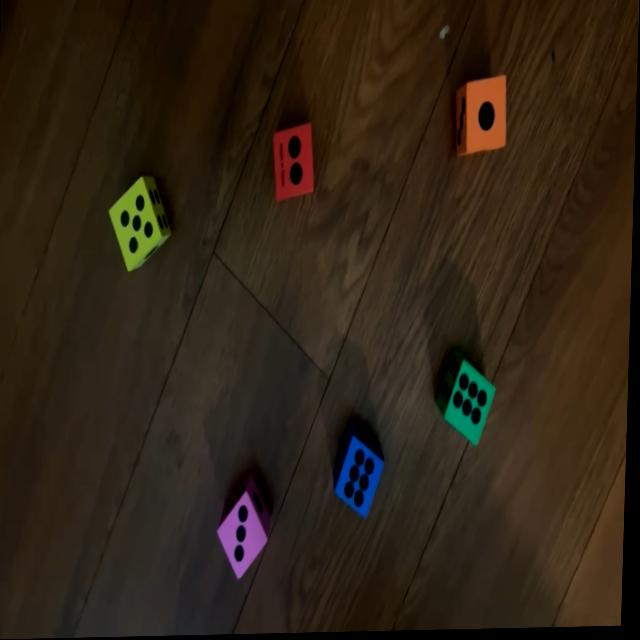blue_block: (335, 423, 387, 518)
red_block: (272, 123, 318, 203)
